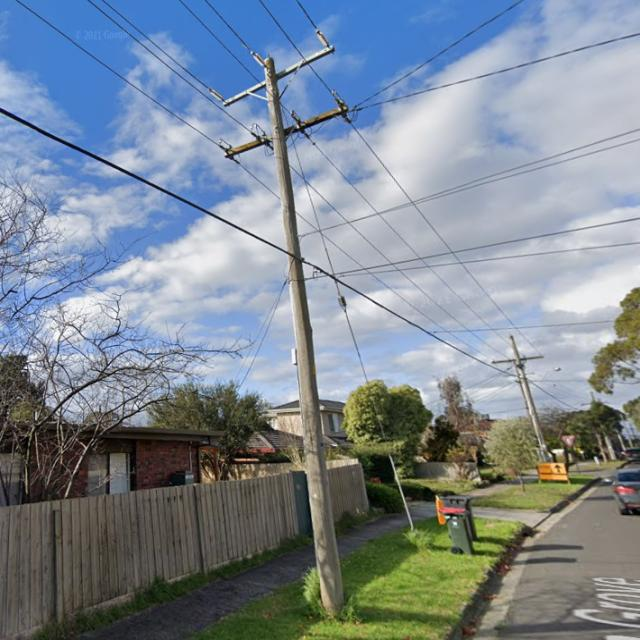HV-transmission: (206, 30, 337, 107)
crossarm: (220, 42, 336, 108), (224, 105, 350, 158), (492, 355, 544, 365)
mid mount suitable pole: (207, 30, 349, 619)
streetlight: (530, 366, 562, 396)
timber-pole: (262, 55, 348, 619), (508, 335, 552, 463)
top mount suitable pole: (493, 335, 553, 463)
